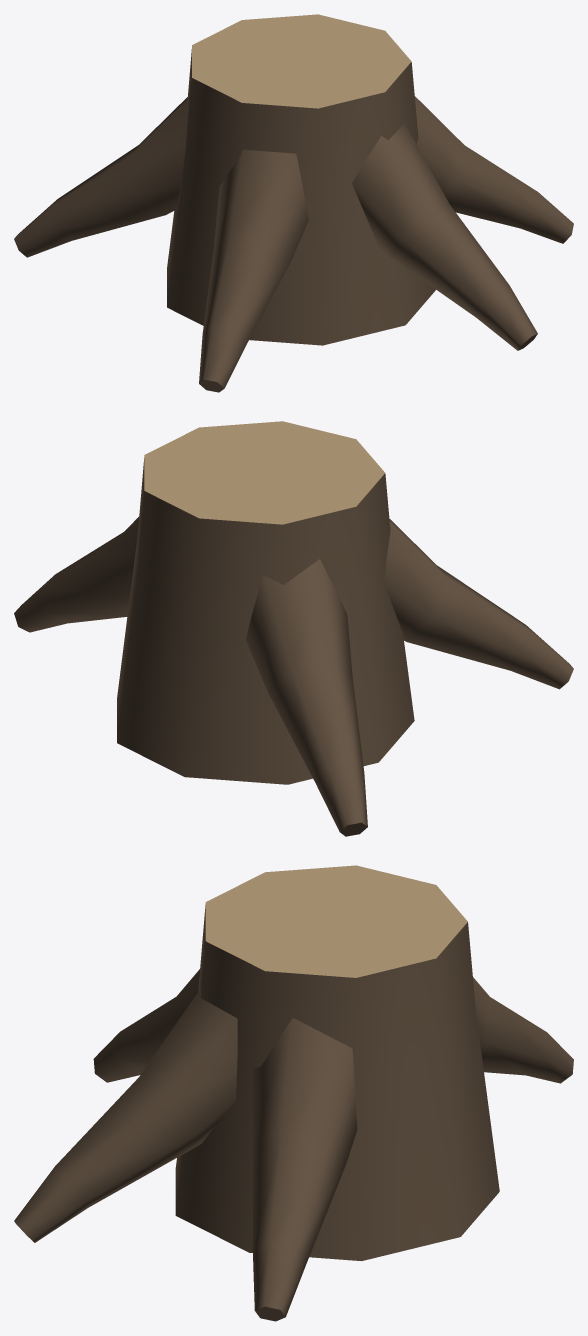
File: stump_1.glb
3 views of the same model, one above another, from view 1: azimuth 30°, elevation 25°; view 2: azimuth 150°, elevation 25°; view 3: azimuth 270°, elevation 25° (orthographic). The views are drawn at different scales.
Visible parts, largest first — view 1: stump_1; view 2: stump_1; view 3: stump_1.
Boxes of the visible parts, x1,y1,x2,y2 form: stump_1: (14,14,573,392); stump_1: (14,421,573,836); stump_1: (14,865,573,1321).
Bounding box in the file's own units: 1.52 × 0.7489 × 1.41.
